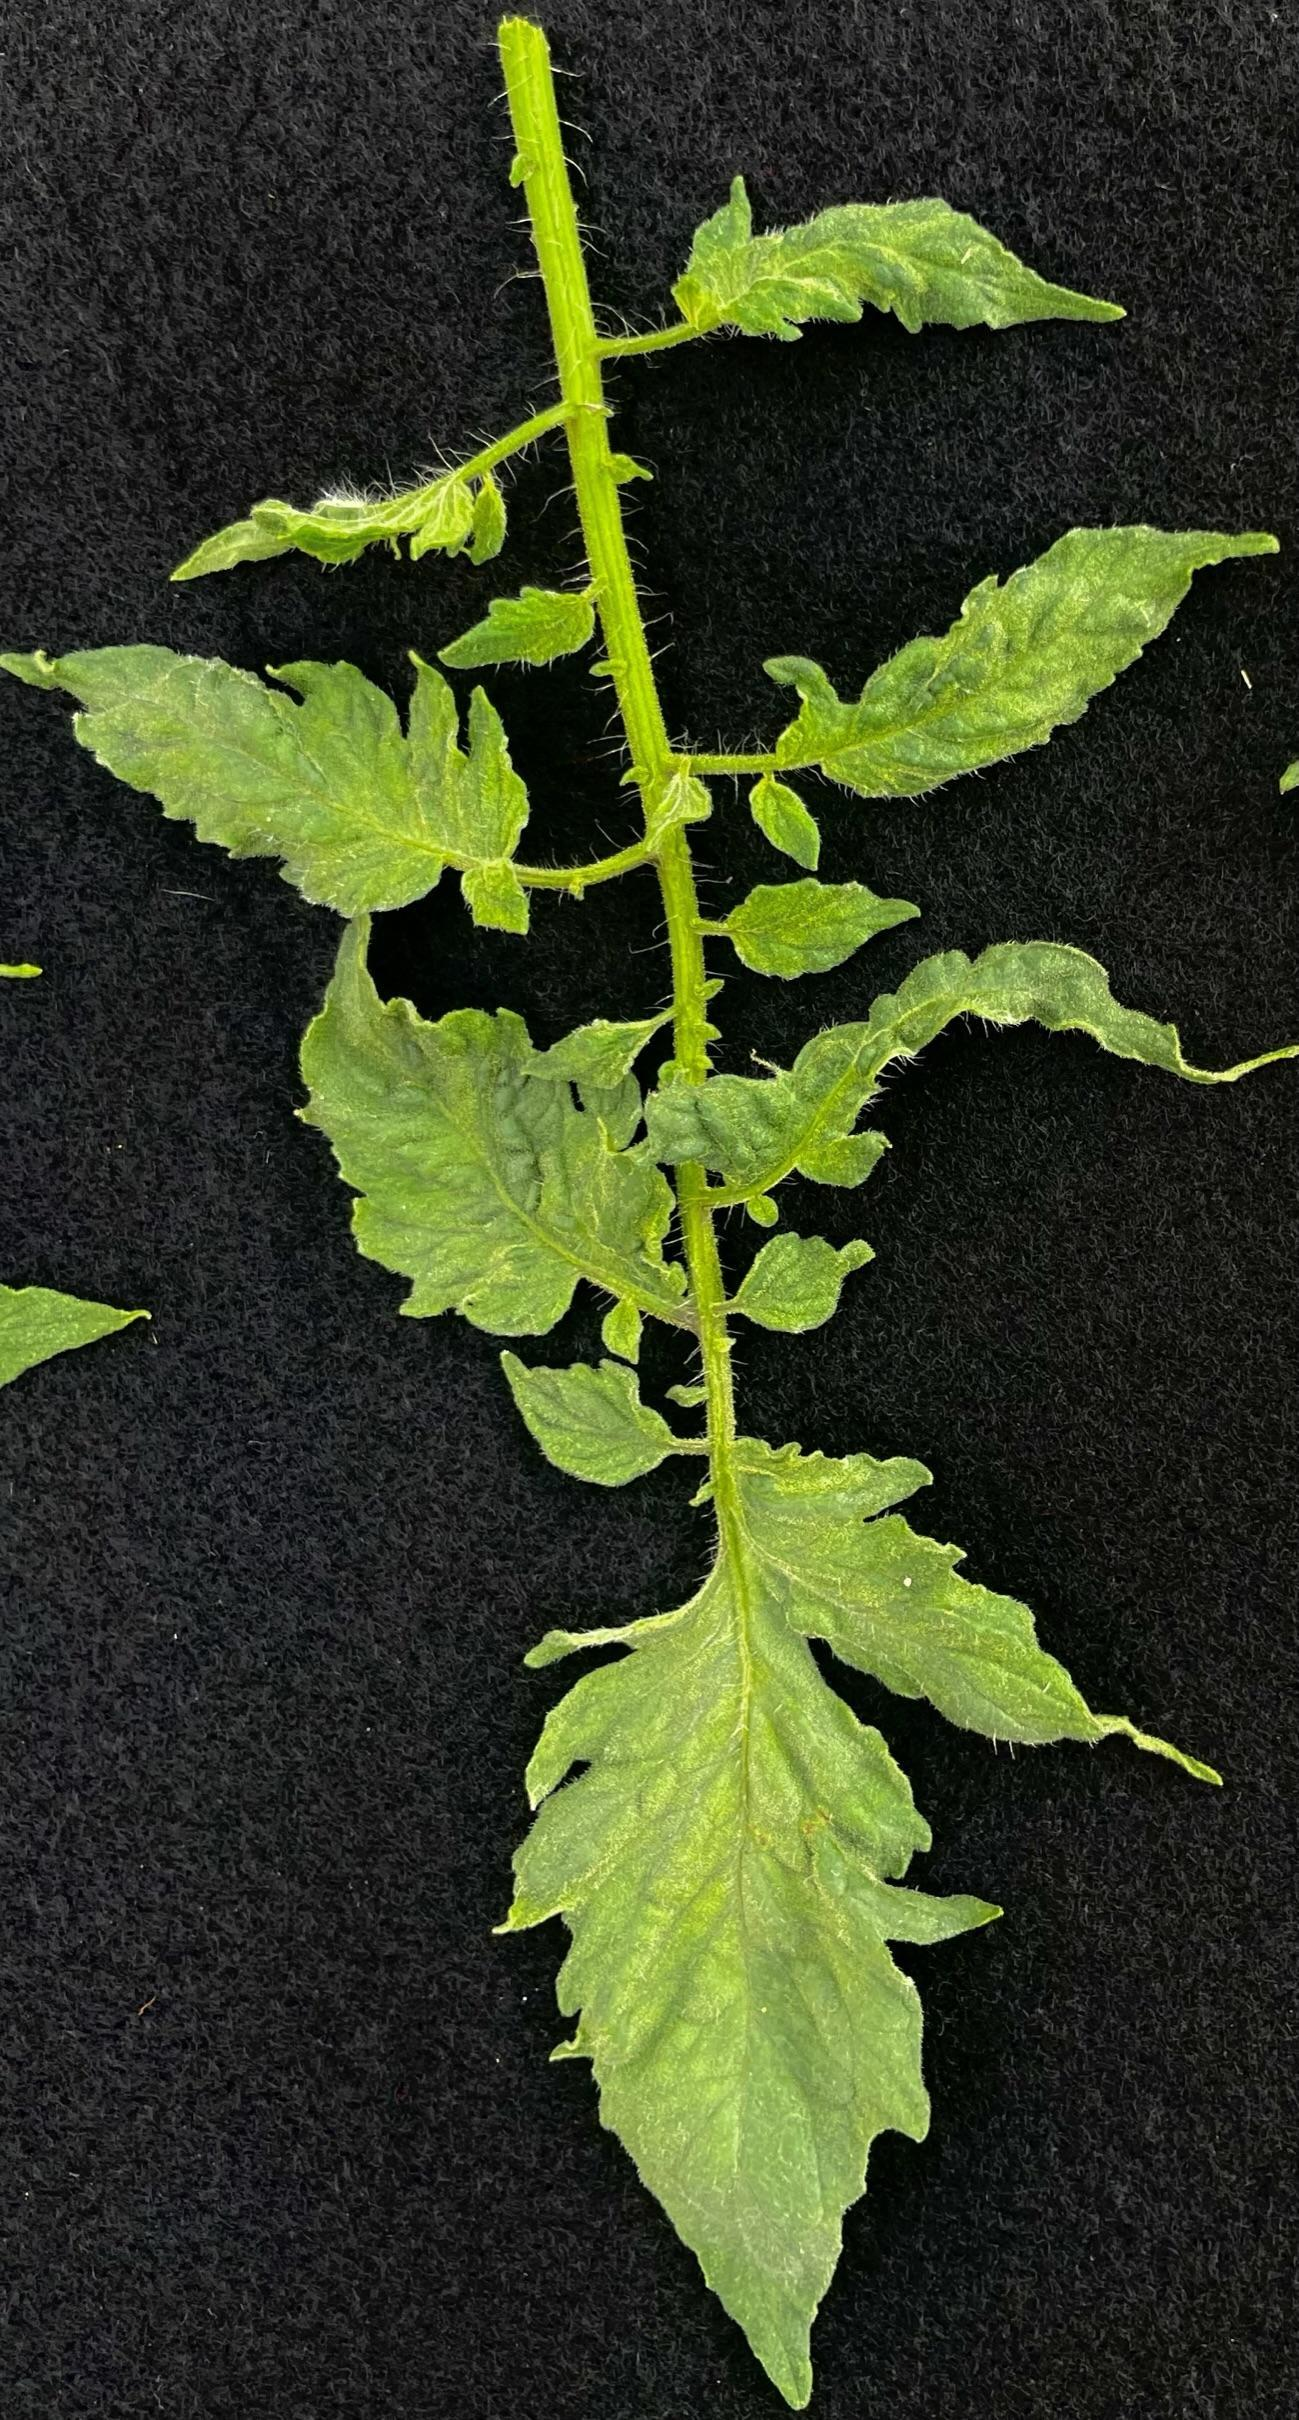Rugose leaf: (510, 1551, 997, 2406), (298, 916, 696, 1340), (643, 941, 1267, 1205), (0, 648, 530, 932), (766, 525, 1281, 794), (733, 1437, 1125, 1745), (677, 174, 1120, 341), (501, 1352, 709, 1484), (728, 1234, 875, 1333), (440, 586, 595, 666)
Rugose stem: (501, 19, 677, 819), (657, 827, 718, 1082), (677, 1167, 733, 1442)
